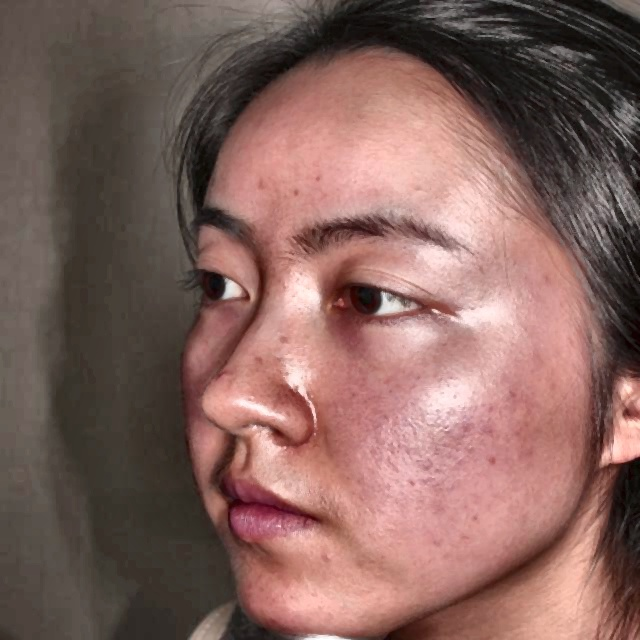comedone: (216, 364, 241, 384)
